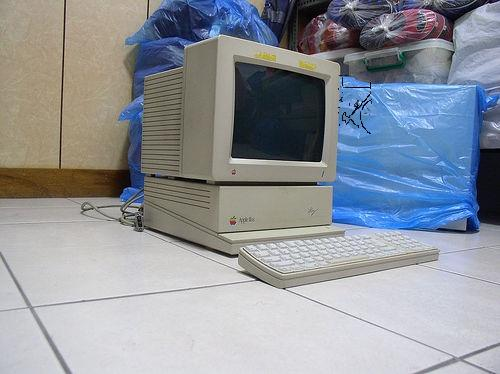tampered: (339, 76, 372, 134)
